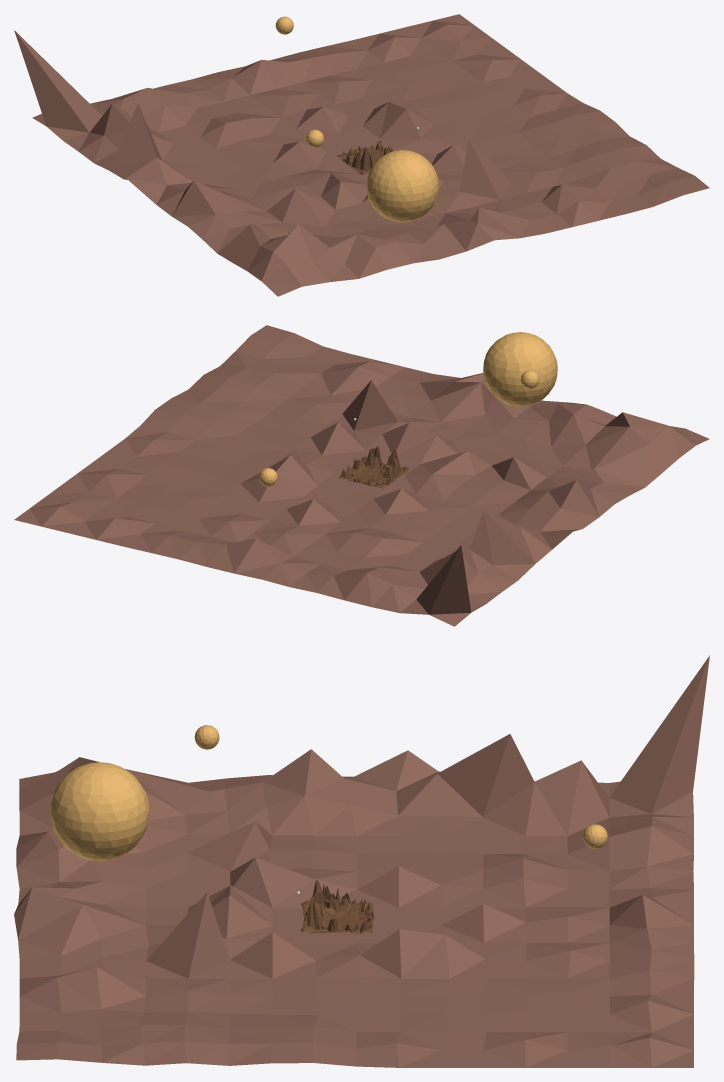
Rendered from hot.dae.
3 views of the same model, one above another, from view 1: azimuth 30°, elevation 25°; view 2: azimuth 150°, elevation 25°; view 3: azimuth 270°, elevation 25° (orthographic). The views are drawn at different scales.
Parts seen in each view (by area): view 1: Plane, Sphere_001, landscape01; view 2: Plane, Sphere_001, landscape01; view 3: Plane, Sphere_001, landscape01.
Part boxes in pixels (left/top/right/bottom): Plane: left=14, top=14, right=709, bottom=296; Sphere_001: left=366, top=150, right=438, bottom=222; landscape01: left=337, top=140, right=393, bottom=174; Plane: left=14, top=325, right=709, bottom=626; Sphere_001: left=483, top=332, right=557, bottom=406; landscape01: left=338, top=446, right=409, bottom=488; Plane: left=14, top=655, right=709, bottom=1067; Sphere_001: left=50, top=762, right=149, bottom=861; landscape01: left=301, top=880, right=374, bottom=933.
Size of the model in its own units: 290 by 289 by 59.1.
